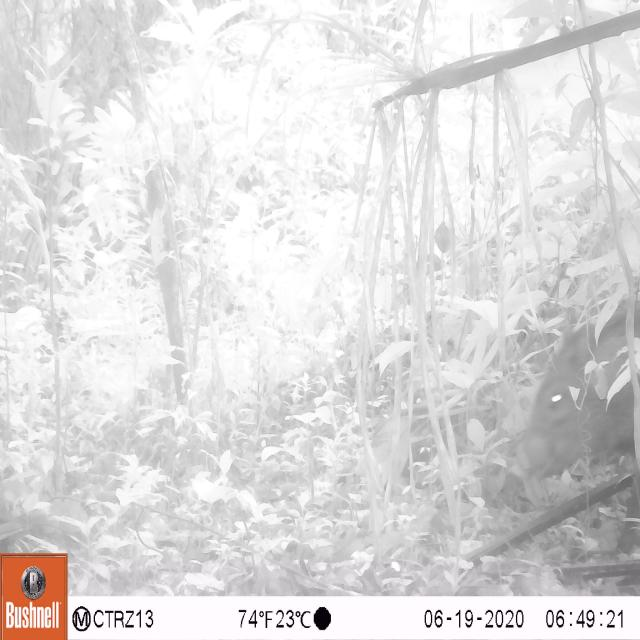Tayra: (516, 295, 640, 485)
